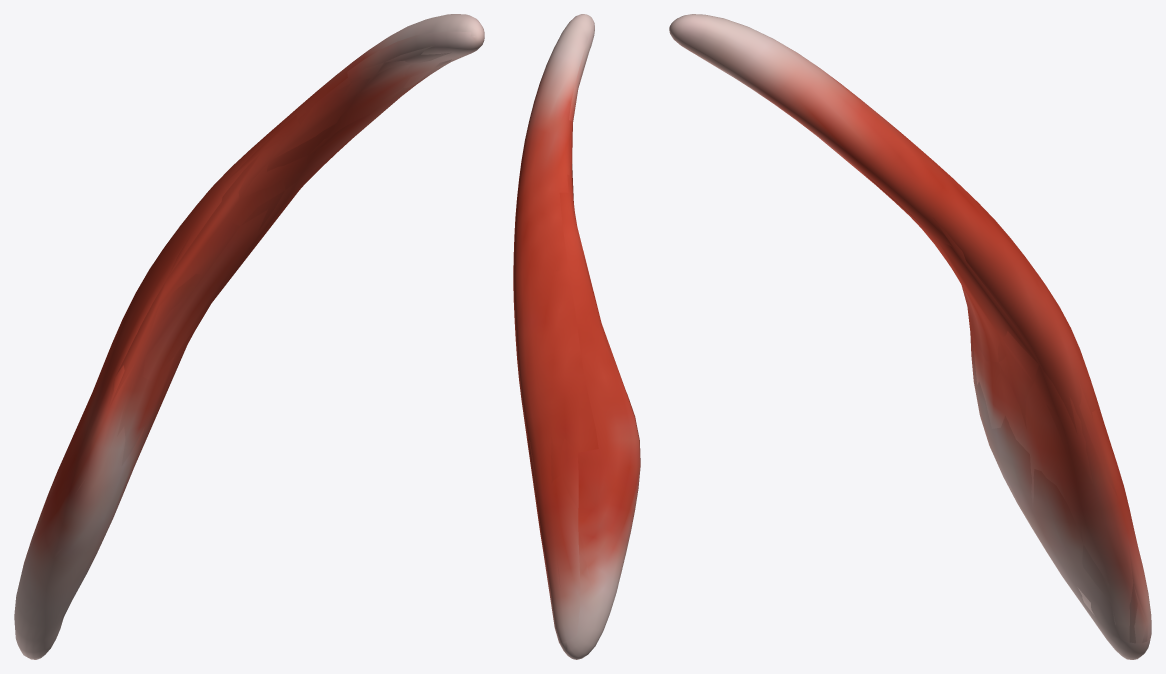
Rendered from L Popliteus.fbx.
3 views of the same model, side by side, from view 1: azimuth 30°, elevation 25°; view 2: azimuth 150°, elevation 25°; view 3: azimuth 270°, elevation 25° (orthographic). The views are drawn at different scales.
Parts seen in each view (by area): view 1: L Popliteus, L Popliteus low; view 2: L Popliteus, L Popliteus low; view 3: L Popliteus, L Popliteus low.
Boxes of the visible parts, x1=… form: L Popliteus: x1=14, y1=14, x2=484, y2=659; L Popliteus low: x1=24, y1=46, x2=452, y2=654; L Popliteus: x1=513, y1=14, x2=640, y2=659; L Popliteus low: x1=524, y1=51, x2=639, y2=650; L Popliteus: x1=669, y1=14, x2=1151, y2=659; L Popliteus low: x1=698, y1=56, x2=1150, y2=643.
Bounding box in the file's own units: 7.94 × 21.76 × 12.75.
